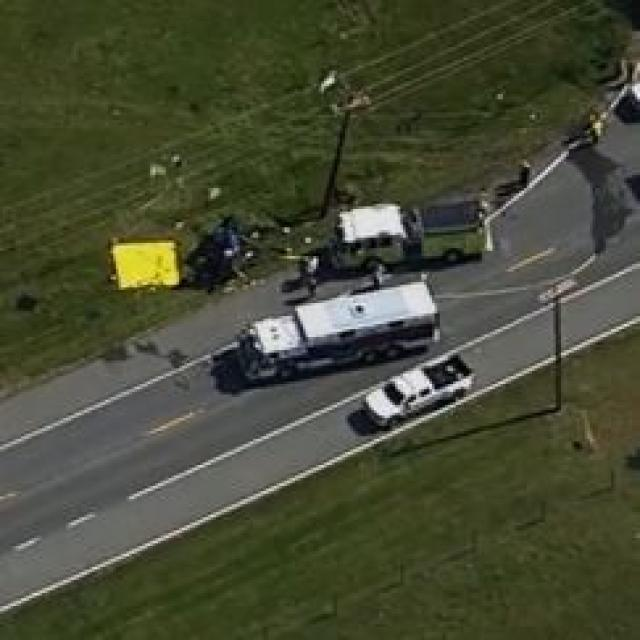traffic_incident: (329, 188, 487, 277)
